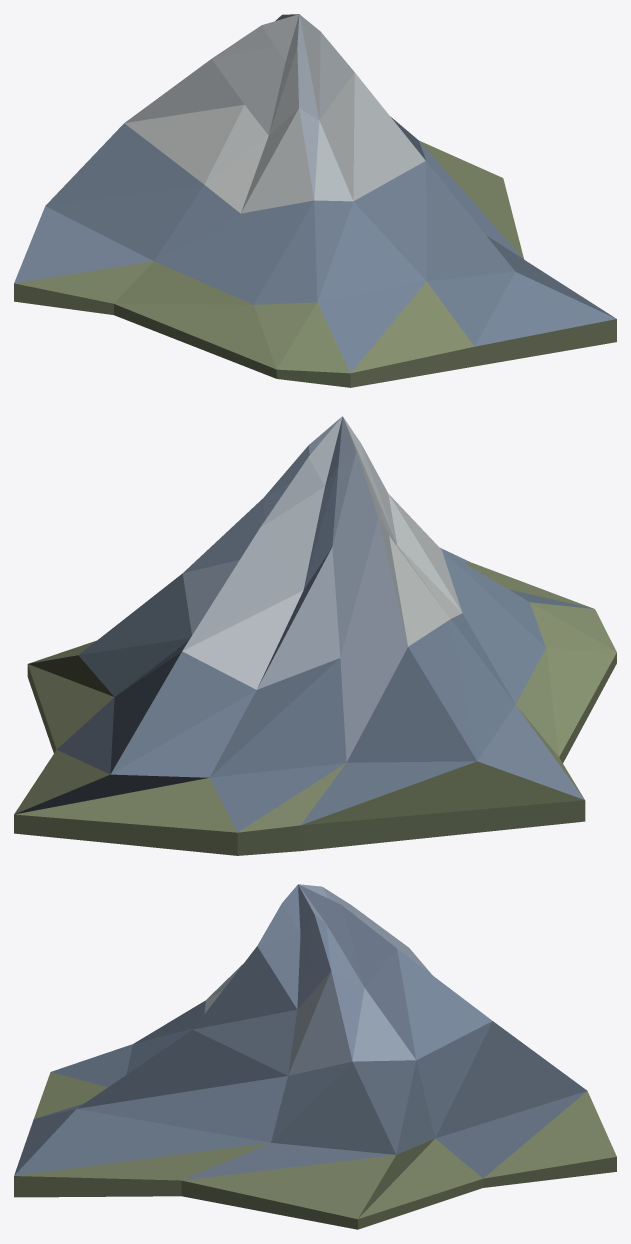
The model's file is massif_needle_ridge.glb.
The picture shows the model from 3 angles, top to bottom: view 1: azimuth 30°, elevation 25°; view 2: azimuth 150°, elevation 25°; view 3: azimuth 270°, elevation 25°; orthographic projection. The views are drawn at different scales.
Parts seen in each view (by area): view 1: massif_needle_ridge; view 2: massif_needle_ridge; view 3: massif_needle_ridge.
Boxes of the visible parts, x1,y1,x2,y2 form: massif_needle_ridge: (14, 14, 616, 387); massif_needle_ridge: (14, 416, 616, 855); massif_needle_ridge: (14, 884, 616, 1229).
Size of the model in its own units: 554 by 282 by 646.
